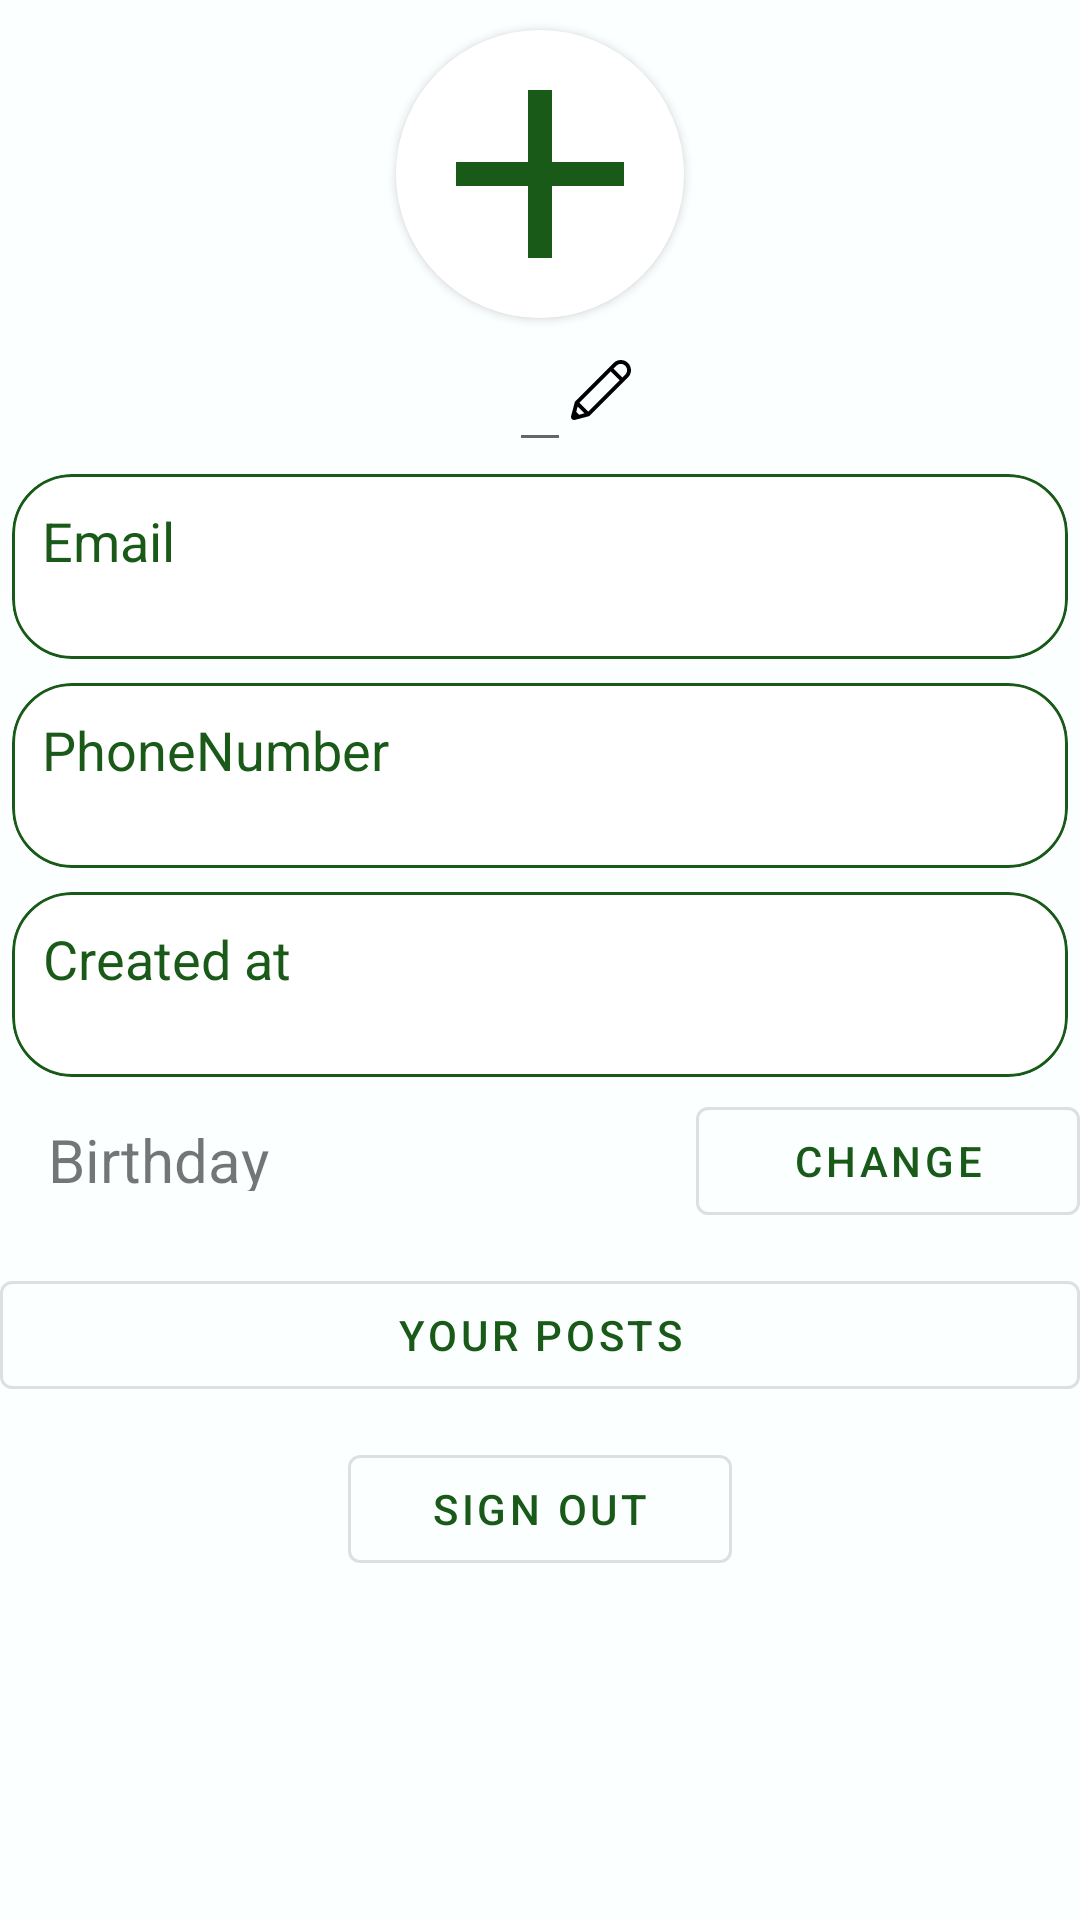

Locate icon controls on the screen. Image size 1080x1920, boxes as detection(x1, y1, x2, y2).
add: detection(456, 90, 624, 318)
pencil: detection(571, 360, 631, 420)
